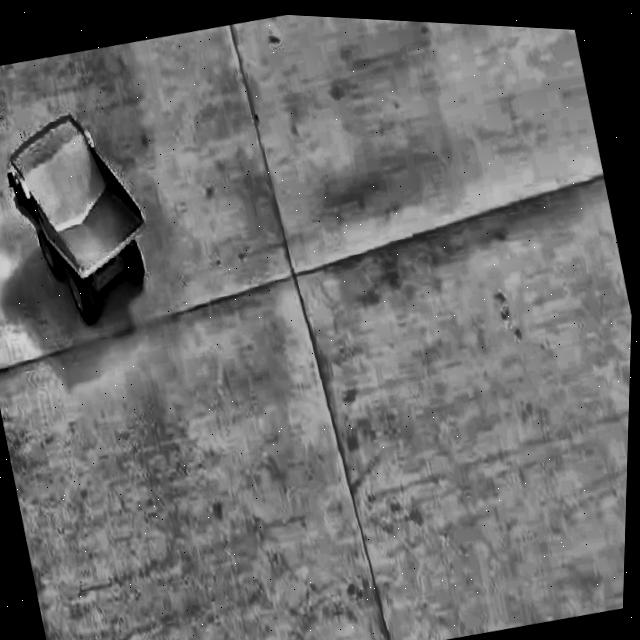dump_truck: (0, 105, 164, 330)
